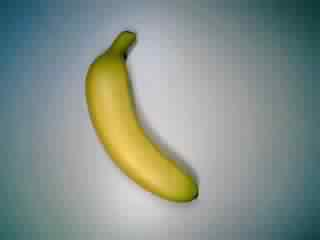banana: (83, 30, 202, 204)
